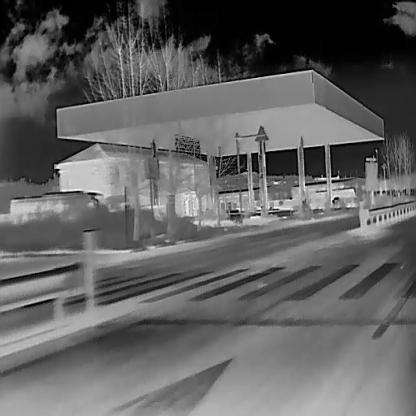bus: (7, 188, 104, 218), (313, 186, 357, 202)
